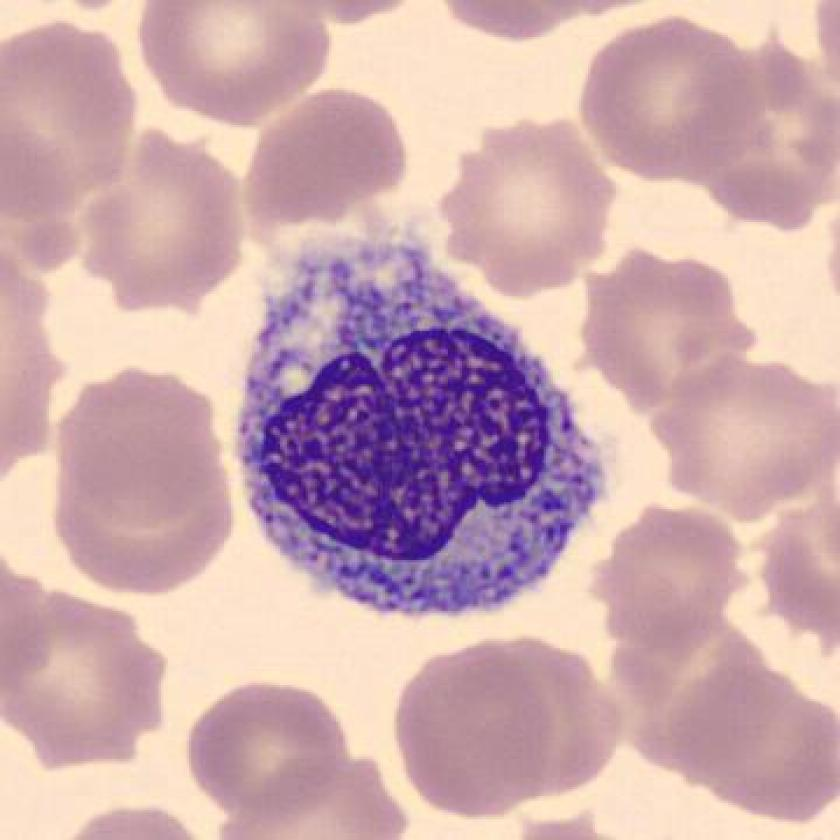monocyte: (214, 212, 641, 640)
